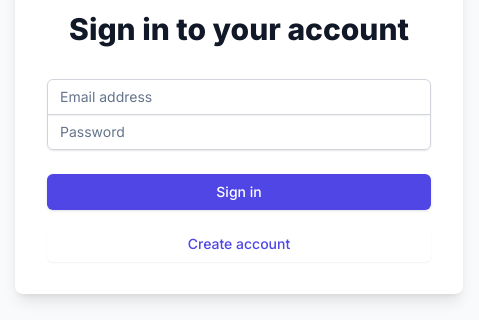
Test: Sign In Page › disables buttons while loading
The width and height of the screenshot is (479, 320).
Click the button "Sign in" at (239, 192), box [47,174,431,210]
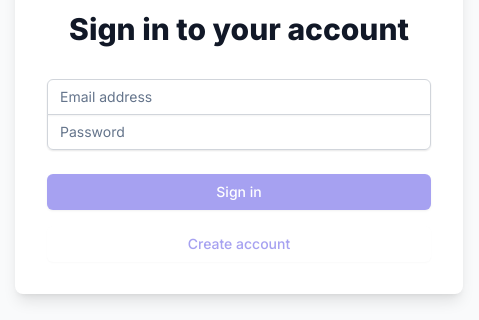
Result: the button "Sign in" is disabled at [47,174,431,210]
Result: the button "Create account" is disabled at [47,226,431,262]
